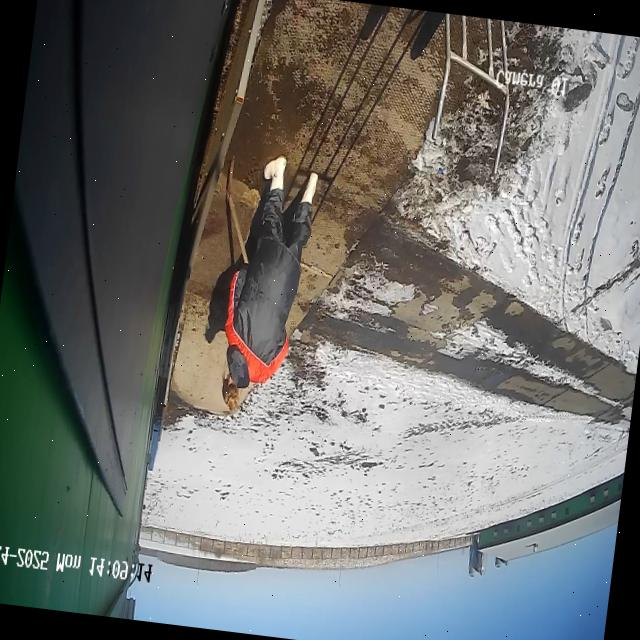Red uniform: (215, 178, 318, 396)
